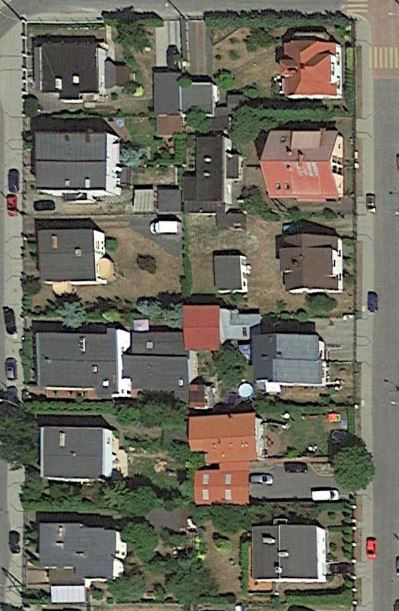family house: (32, 321, 133, 400), (187, 412, 266, 508), (257, 127, 349, 204), (31, 129, 122, 200), (35, 517, 129, 582), (177, 133, 245, 214), (247, 519, 329, 583), (34, 38, 111, 106), (37, 422, 117, 486), (277, 36, 350, 102), (250, 332, 330, 392), (277, 230, 346, 296), (36, 226, 106, 288)
garage: (179, 302, 229, 352), (207, 250, 254, 296)
